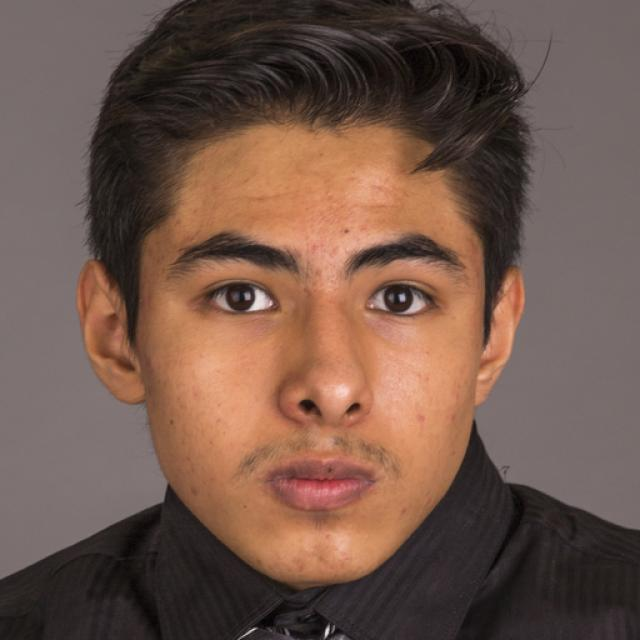Acne: (327, 239, 344, 263), (305, 237, 324, 256)
